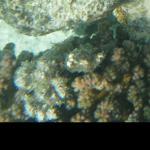dead: (2, 3, 149, 121)
